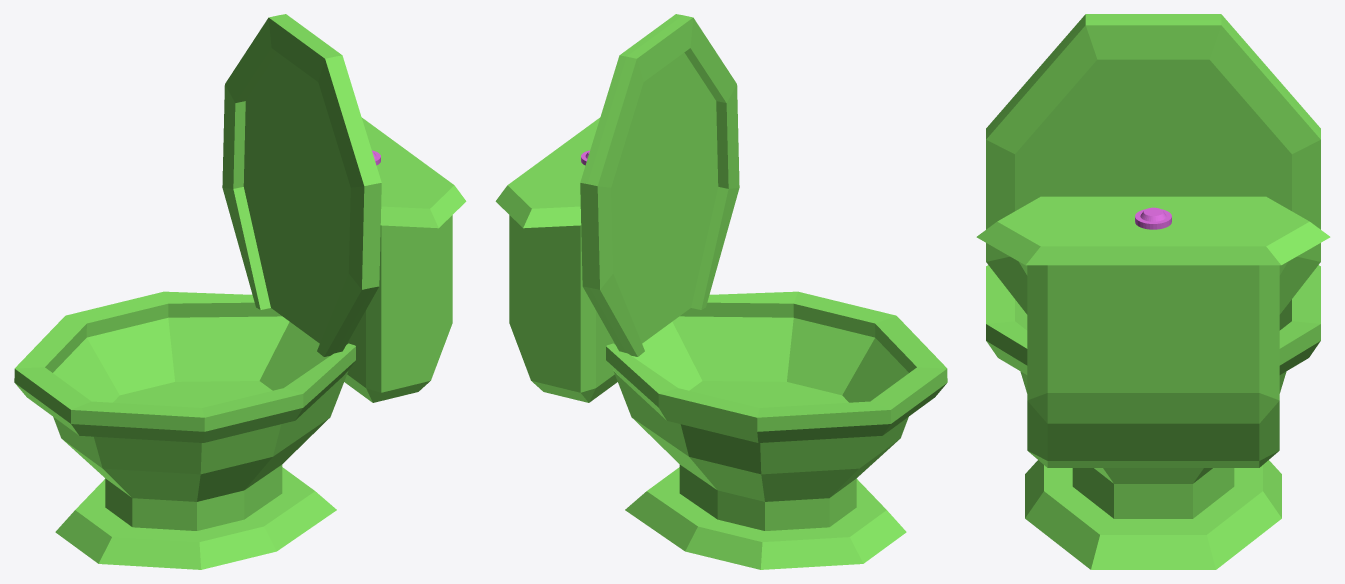
Rendered from toilet_fixed.fbx.
3 views of the same model, side by side, from view 1: azimuth 30°, elevation 25°; view 2: azimuth 150°, elevation 25°; view 3: azimuth 270°, elevation 25° (orthographic). The views are drawn at different scales.
Visible parts, largest first — view 1: toilet, toilet lid, back ass tank, tank lid; view 2: toilet, toilet lid, back ass tank, tank lid; view 3: toilet lid, back ass tank, toilet, tank lid, button.
Boxes of the visible parts, box(x1,y1,x2,y2) form: toilet: box(14, 291, 355, 569); toilet lid: box(222, 14, 381, 356); back ass tank: box(344, 215, 452, 402); tank lid: box(361, 117, 466, 228); toilet: box(606, 291, 947, 569); toilet lid: box(580, 14, 739, 356); back ass tank: box(509, 215, 617, 402); tank lid: box(495, 117, 600, 228); toilet lid: box(986, 14, 1320, 314); back ass tank: box(1027, 265, 1279, 467); toilet: box(986, 265, 1320, 569); tank lid: box(976, 196, 1330, 265); button: box(1135, 207, 1171, 229).
Bounding box in the file's own units: 371 × 437 × 256.
